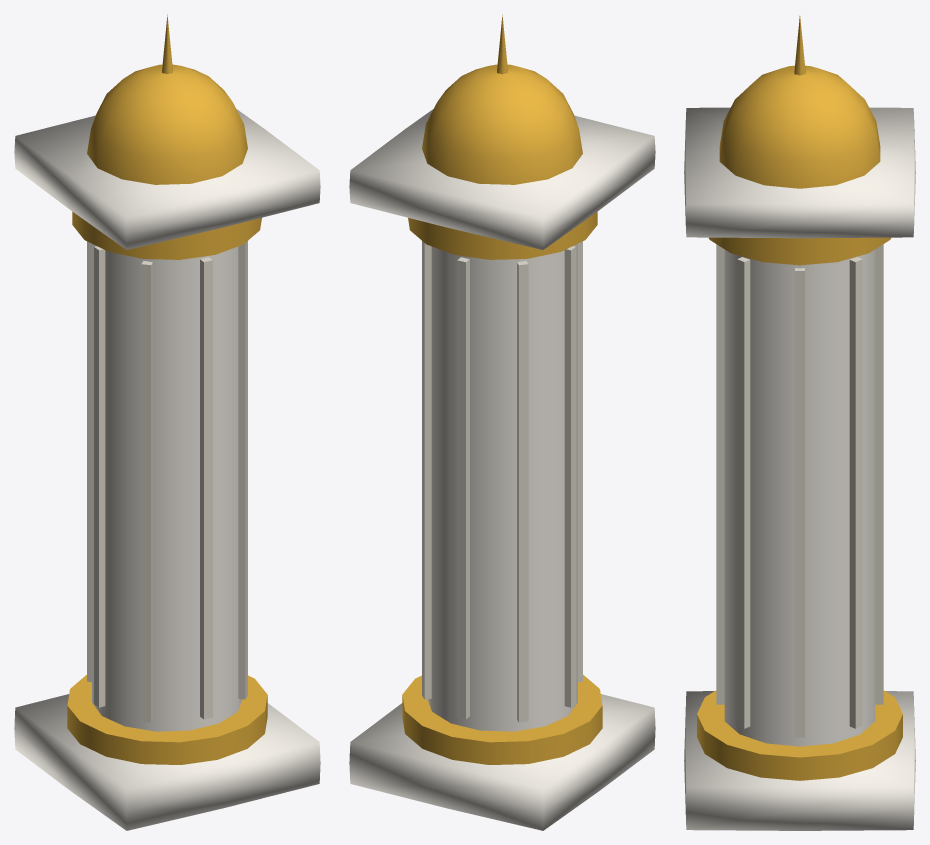
The model's file is pillar.glb.
The picture shows the model from 3 angles, left to right: view 1: azimuth 30°, elevation 25°; view 2: azimuth 150°, elevation 25°; view 3: azimuth 270°, elevation 25°; orthographic projection. The views are drawn at different scales.
Parts seen in each view (by area): view 1: root; view 2: root; view 3: root.
Boxes of the visible parts, x1=… form: root: x1=14, y1=14, x2=320, y2=830; root: x1=349, y1=14, x2=655, y2=830; root: x1=684, y1=16, x2=915, y2=830.
Size of the model in its own units: 0.9 by 3.3 by 0.9.
